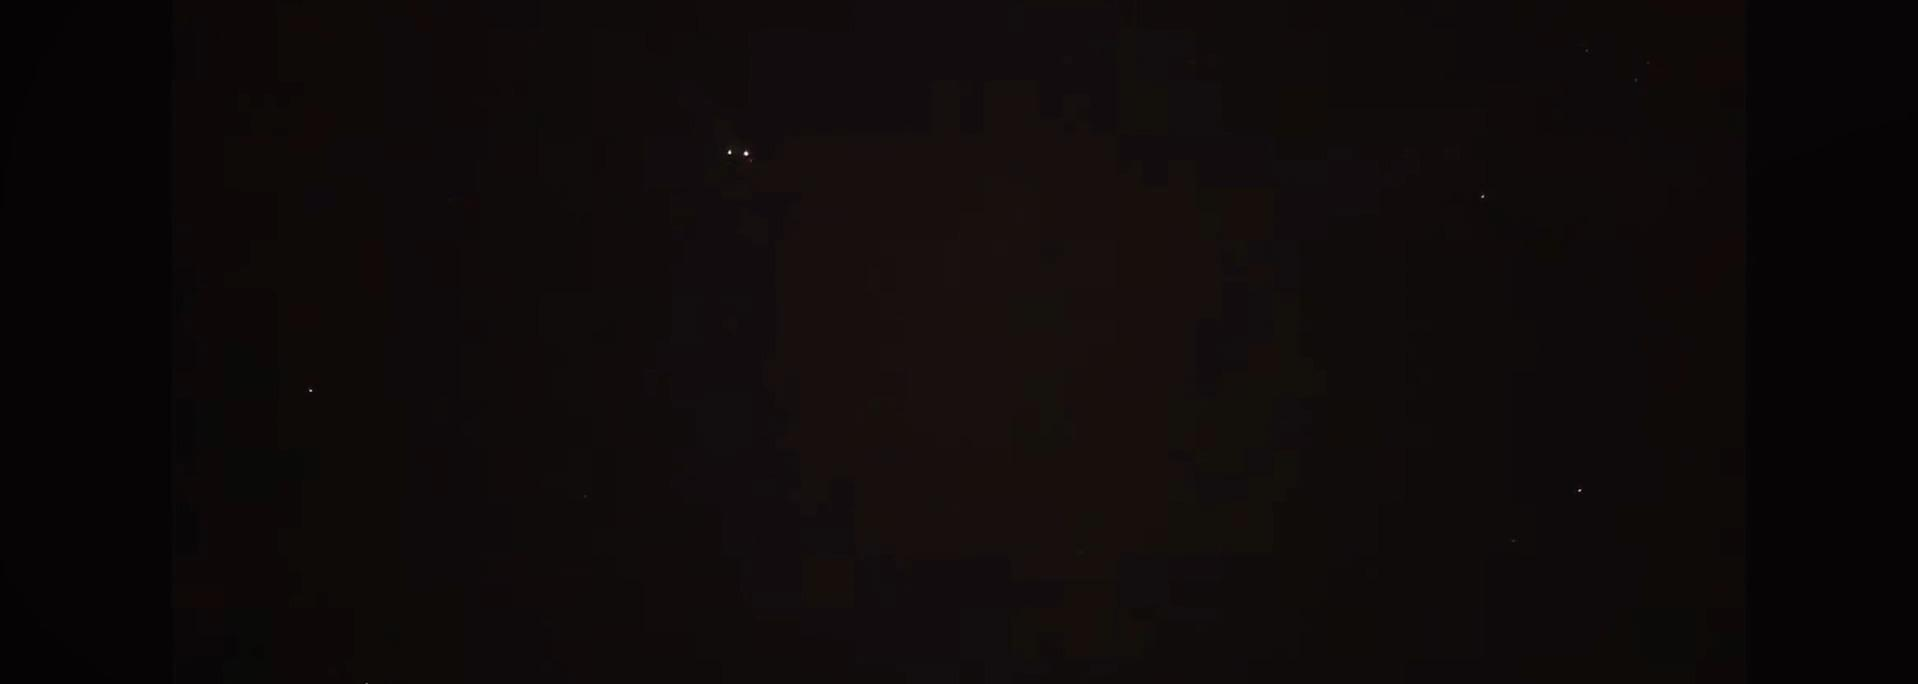Plane: (705, 137, 777, 173)
